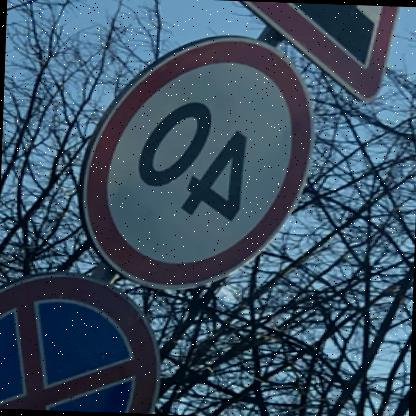speedlimit: (80, 30, 317, 294)
